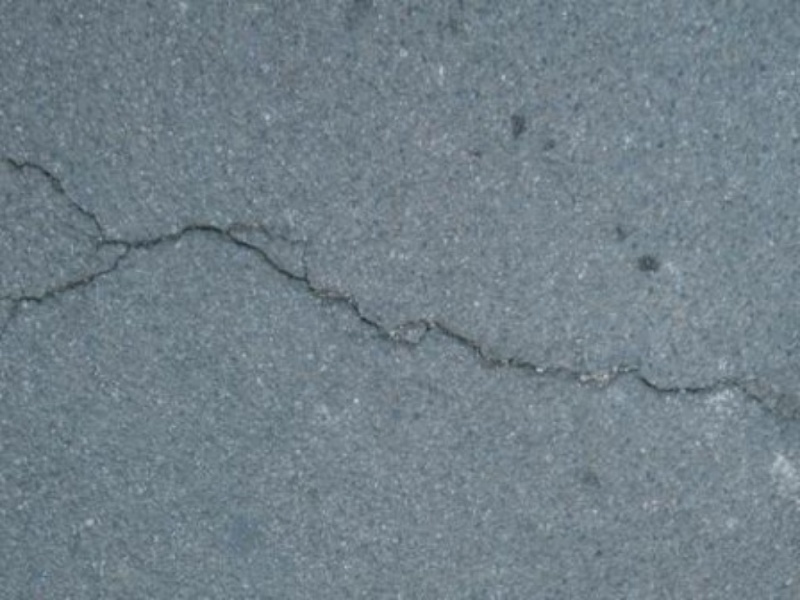crack: (6, 131, 790, 438)
